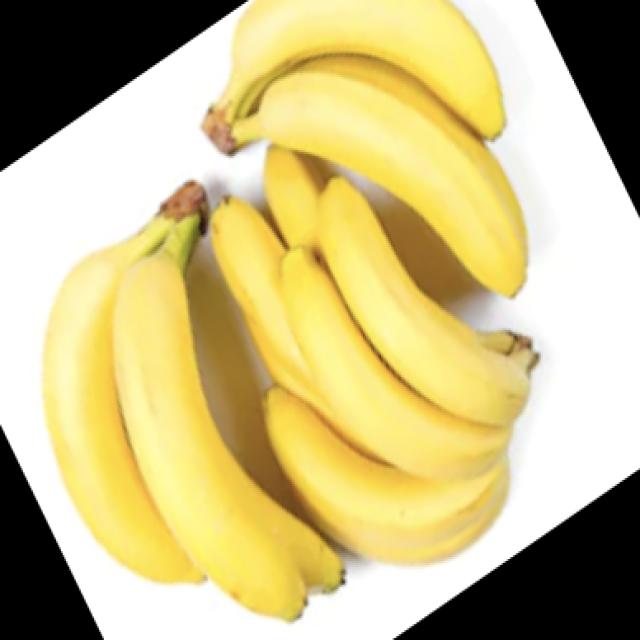banana: (199, 112, 555, 567), (29, 155, 360, 631), (175, 1, 590, 323)
